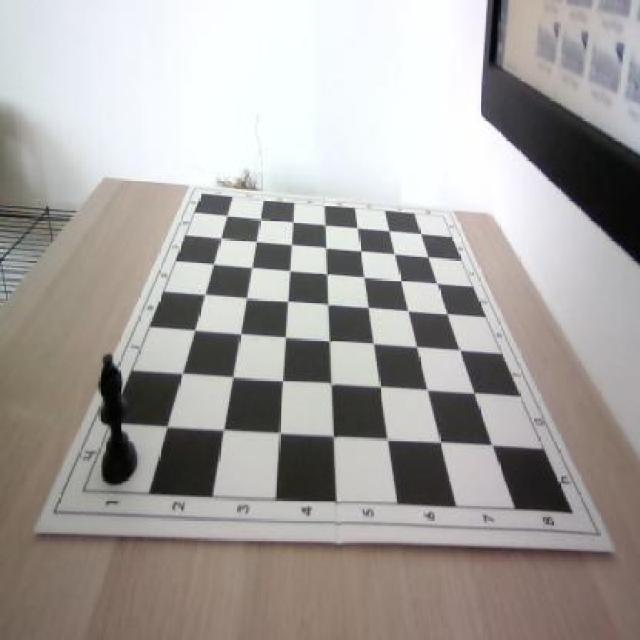bishop: (97, 348, 139, 484)
